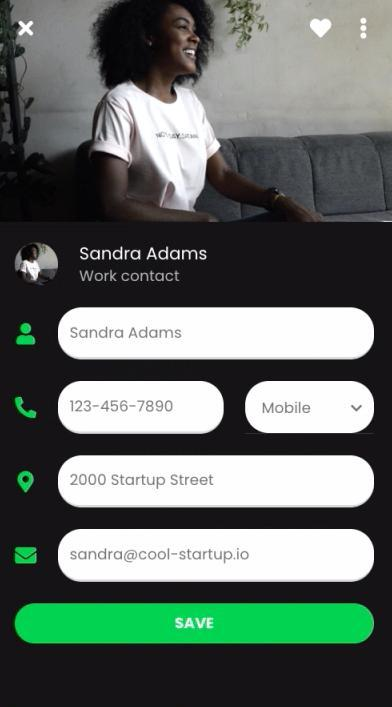button: (14, 602, 378, 645)
dropdown: (245, 382, 374, 436)
icon: (14, 395, 40, 426), (306, 17, 340, 40), (13, 543, 43, 569), (15, 322, 38, 352), (354, 14, 373, 47), (18, 469, 38, 500), (19, 18, 38, 41)
input: (59, 304, 376, 365), (60, 528, 377, 589), (58, 454, 378, 510), (58, 380, 231, 439)
label: (76, 244, 209, 265)
